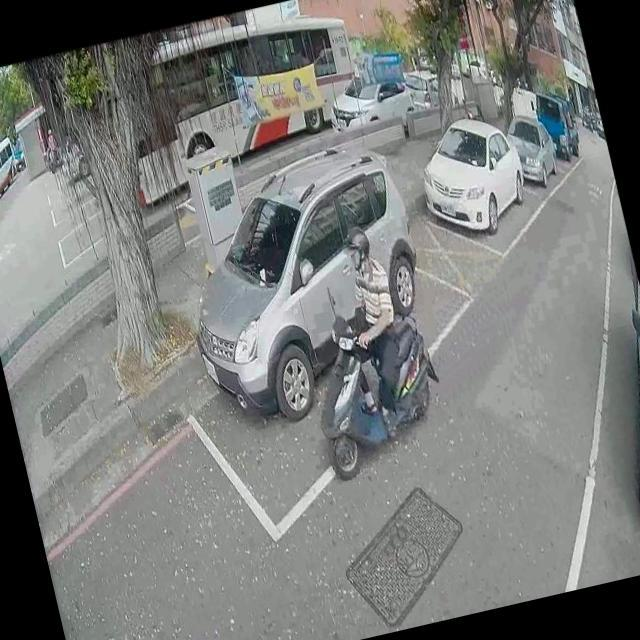person: (314, 227, 436, 438), (40, 122, 61, 170)
